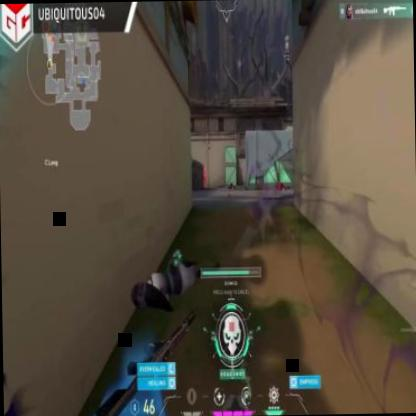enemy: (200, 164, 206, 188)
enemy_head: (201, 165, 205, 170)
